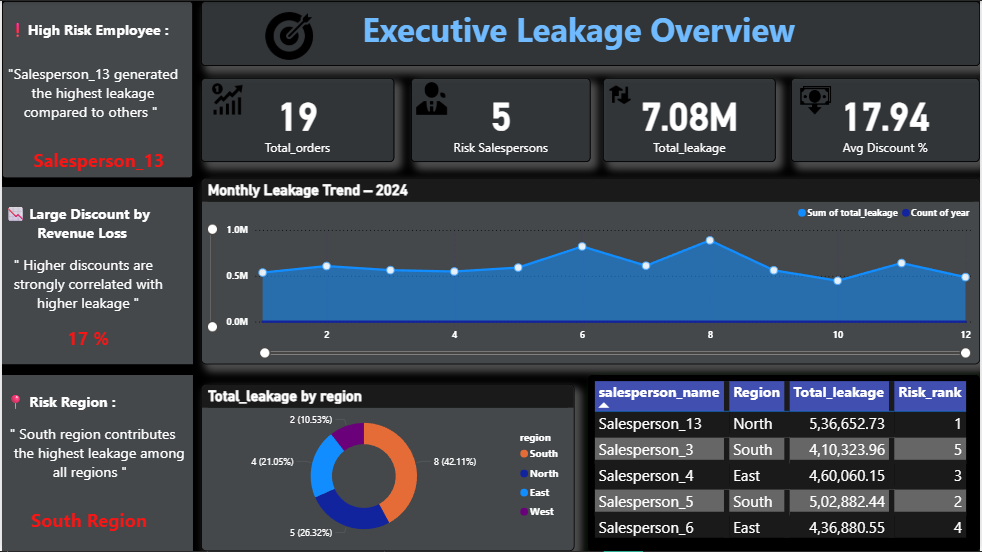

Layout of this report page (visuals, bound fields, positions):
{"tool":"powerbi","page":{"name":"Excecutive Leakage Overview","canvas":[1280,720],"ordinal":0},"visuals":[{"type":"card","title":"Total Leakage ","fields":{"Values":["Sum(clean_salesperson_leakage_performance.total_leakage)"]},"box":[627.4,0,327.1,162.8],"z":0},{"type":"card","title":"Total Orders( L )","fields":{"Values":["CountNonNull(clean_salesperson_leakage_performance.total_orders)"]},"box":[13.4,0,295.8,162.8],"z":1000},{"type":"card","title":"High Risk Salesperson","fields":{"Values":["clean_salesperson_leakage_performance.High Risk Salespersons"]},"box":[966.5,0,300.2,162.8],"z":2000},{"type":"card","title":"Avg Discount %","fields":{"Values":["clean_salesperson_leakage_performance.Avg Discount %"]},"box":[321.2,0,292.8,162.8],"z":3000},{"type":"clusteredBarChart","fields":{"Category":["clean_salesperson_risk_summary.region"],"Y":["CountNonNull(clean_salesperson_risk_summary.total_leakage)"]},"box":[13.4,446.6,729,256.9],"z":4000},{"type":"stackedAreaChart","title":"Monthly Leakage Trend – 2024","fields":{"Category":["clean_monthly_price_leakage_2024.month"],"Y":["Sum(clean_monthly_price_leakage_2024.total_leakage)","CountNonNull(clean_monthly_price_leakage_2024.year)"]},"box":[13.4,177.8,1253.3,258.4],"z":5000},{"type":"tableEx","fields":{"Values":["clean_salesperson_risk_summary.salesperson_name","clean_salesperson_risk_summary.region","clean_salesperson_risk_summary.total_leakage","Sum(clean_salesperson_risk_summary.risk_rank)"]},"box":[752.9,445.1,513.9,258.4],"z":6000}]}

Visuals, with their boxes in screenshot pixels (x1, y1, x2, y2), scaled from the page's 1280x720 canvas onto the 982x552 screenshot:
"Total Leakage " card: locate(481, 0, 732, 125)
"Total Orders( L )" card: locate(10, 0, 237, 125)
"High Risk Salesperson" card: locate(741, 0, 972, 125)
"Avg Discount %" card: locate(246, 0, 471, 125)
clusteredBarChart - clean_salesperson_risk_summary.region x CountNonNull(clean_salesperson_risk_summary.total_leakage): locate(10, 342, 570, 539)
"Monthly Leakage Trend – 2024" stackedAreaChart: locate(10, 136, 972, 334)
tableEx - clean_salesperson_risk_summary.salesperson_name x clean_salesperson_risk_summary.region: locate(578, 341, 972, 539)
